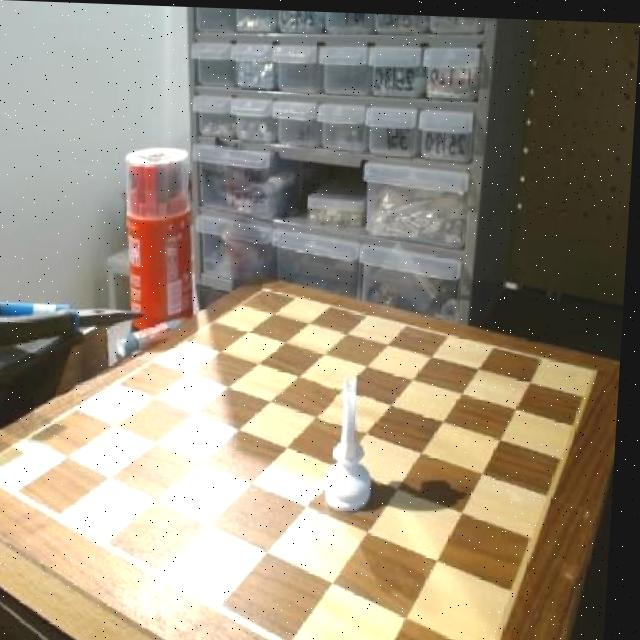white-king: (320, 369, 385, 514)
